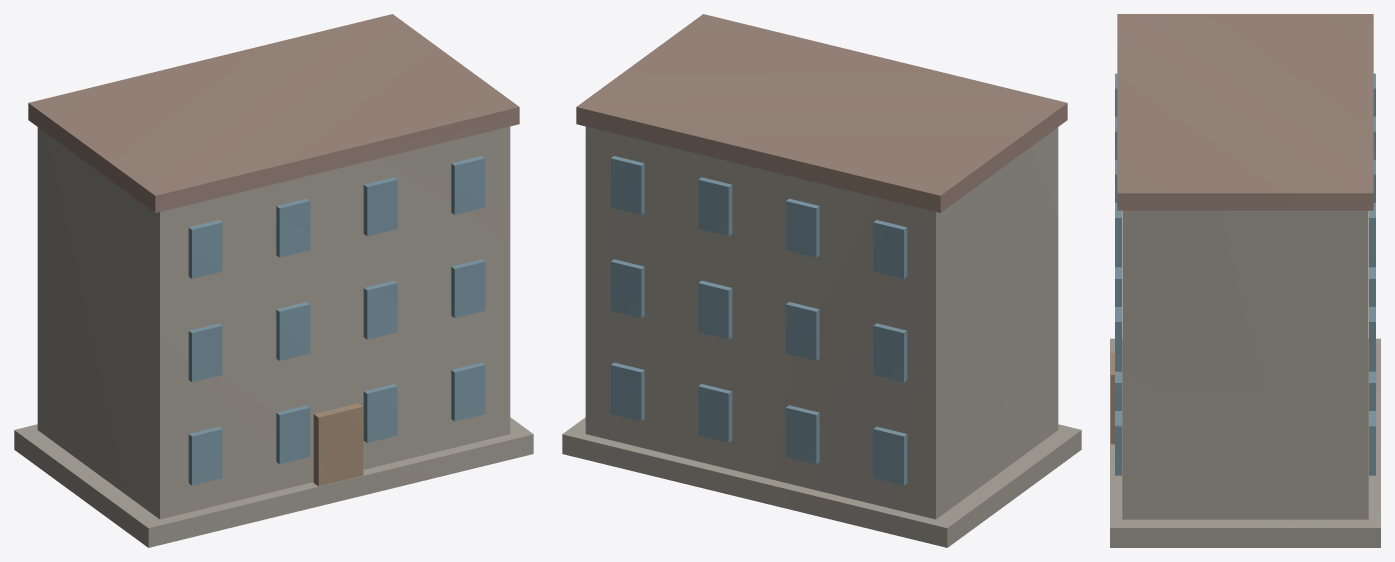
File: apartment-03.glb
The picture shows the model from 3 angles, left to right: view 1: azimuth 30°, elevation 25°; view 2: azimuth 150°, elevation 25°; view 3: azimuth 270°, elevation 25°; orthographic projection.
Visible parts, largest first — view 1: world; view 2: world; view 3: world.
Boxes of the visible parts, x1,y1,x2,y2 form: world: (14,14,533,547); world: (562,14,1081,547); world: (1110,14,1380,547).
Size of the model in its own units: 1.64 by 1.41 by 0.99.
